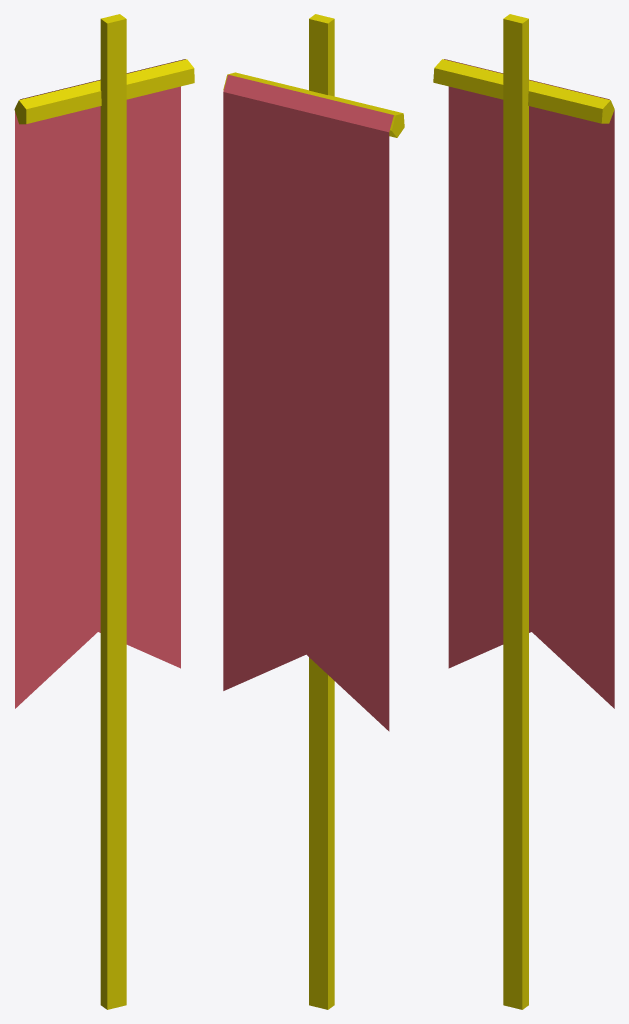
File: decoration-flag-japan.fbx
The picture shows the model from 3 angles, left to right: view 1: azimuth 30°, elevation 25°; view 2: azimuth 150°, elevation 25°; view 3: azimuth 330°, elevation 25°; orthographic projection.
Parts seen in each view (by area): view 1: decoration-flag-japan; view 2: decoration-flag-japan; view 3: decoration-flag-japan.
Part boxes in pixels (left/top/right/bottom): decoration-flag-japan: left=14, top=14, right=194, bottom=1009; decoration-flag-japan: left=223, top=14, right=404, bottom=1009; decoration-flag-japan: left=433, top=14, right=614, bottom=1009.
Bounding box in the file's own units: 0.8791 × 4.9 × 0.1696.
